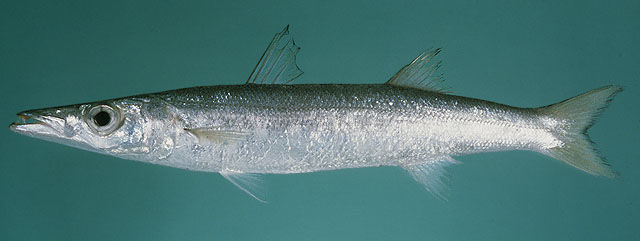fish: (9, 23, 626, 204)
